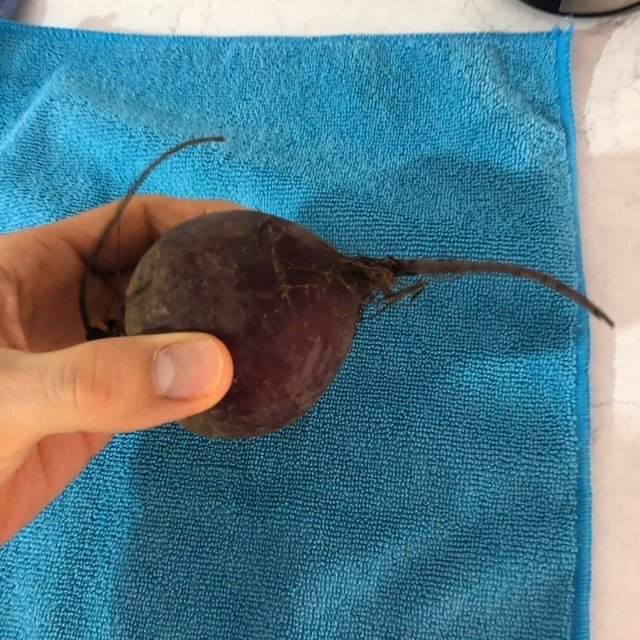beet: (80, 138, 616, 439)
